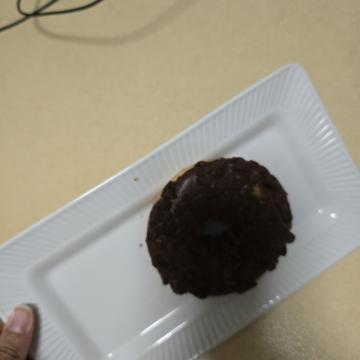doughnut: (150, 58, 310, 224)
